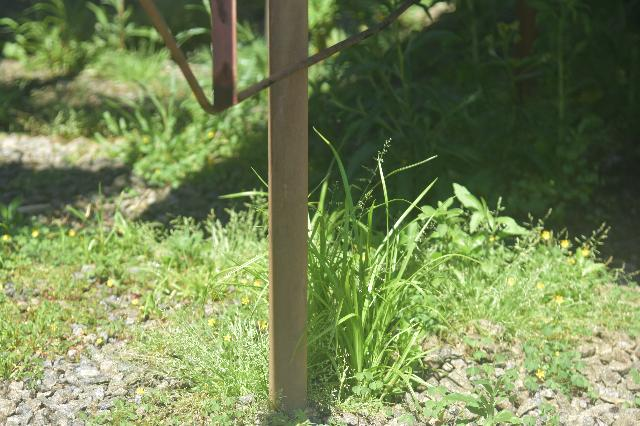MalezaMontesDelPlata: (306, 143, 465, 395), (173, 183, 268, 406), (513, 223, 622, 385), (428, 178, 540, 330), (0, 186, 165, 284), (0, 290, 104, 385), (445, 337, 512, 426)
